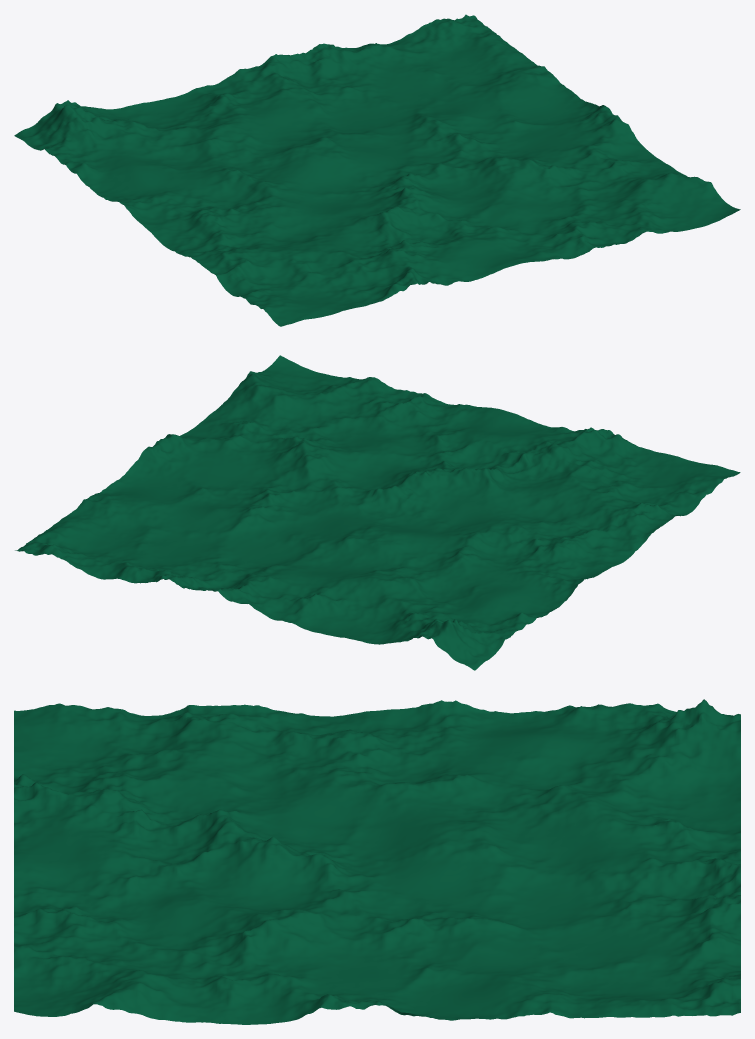
Rendered from sample1.glb.
3 renders of one model, top to bottom at view 1: azimuth 30°, elevation 25°; view 2: azimuth 150°, elevation 25°; view 3: azimuth 270°, elevation 25°, orthographic. The views are drawn at different scales.
Visible parts, largest first — view 1: Landscape; view 2: Landscape; view 3: Landscape.
Boxes of the visible parts, bbox=[...] form: Landscape: bbox=[14, 14, 740, 326]; Landscape: bbox=[15, 355, 740, 670]; Landscape: bbox=[14, 699, 740, 1024].
Bounding box in the file's own units: 20 × 1.39 × 20.
